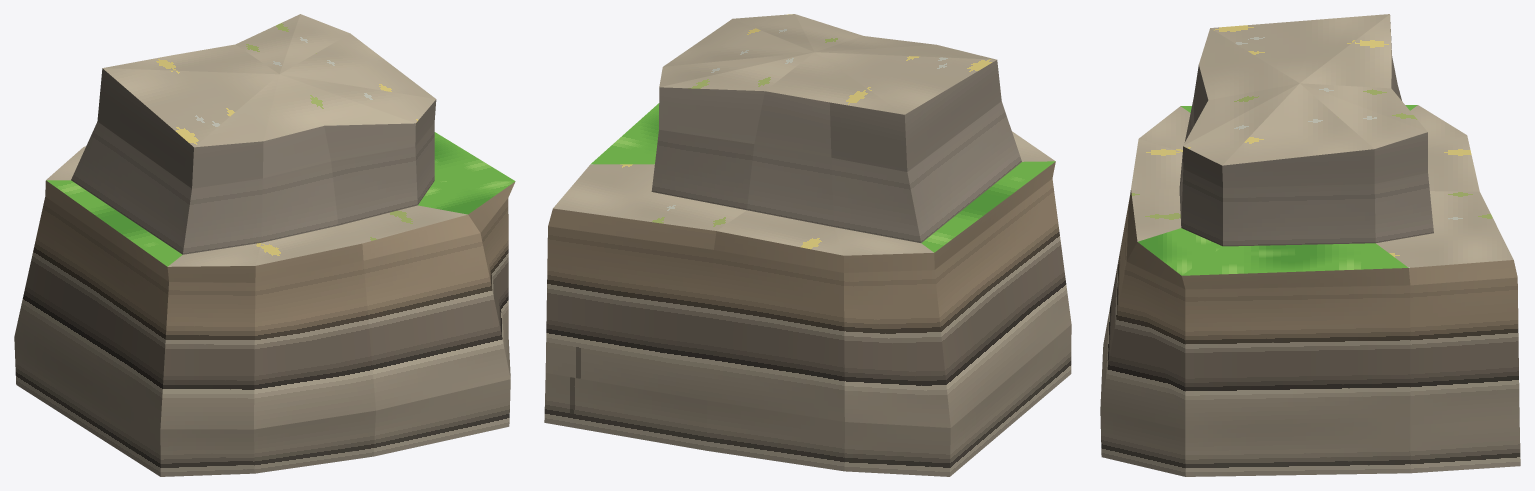
Rendered from p_bi_boulder_m.glb.
3 renders of one model, left to right at view 1: azimuth 30°, elevation 25°; view 2: azimuth 150°, elevation 25°; view 3: azimuth 270°, elevation 25°, orthographic. The views are drawn at different scales.
Parts seen in each view (by area): view 1: p_bi_boulder_m_lod0; view 2: p_bi_boulder_m_lod0; view 3: p_bi_boulder_m_lod0.
Part boxes in pixels (x1,y1,x2,y2): p_bi_boulder_m_lod0: [14, 14, 515, 476]; p_bi_boulder_m_lod0: [544, 14, 1071, 476]; p_bi_boulder_m_lod0: [1100, 14, 1520, 476].
Size of what is drawn, in the model's own units: 2.88 by 2.32 by 2.8.
Materials: 1 (1 with a texture image).
